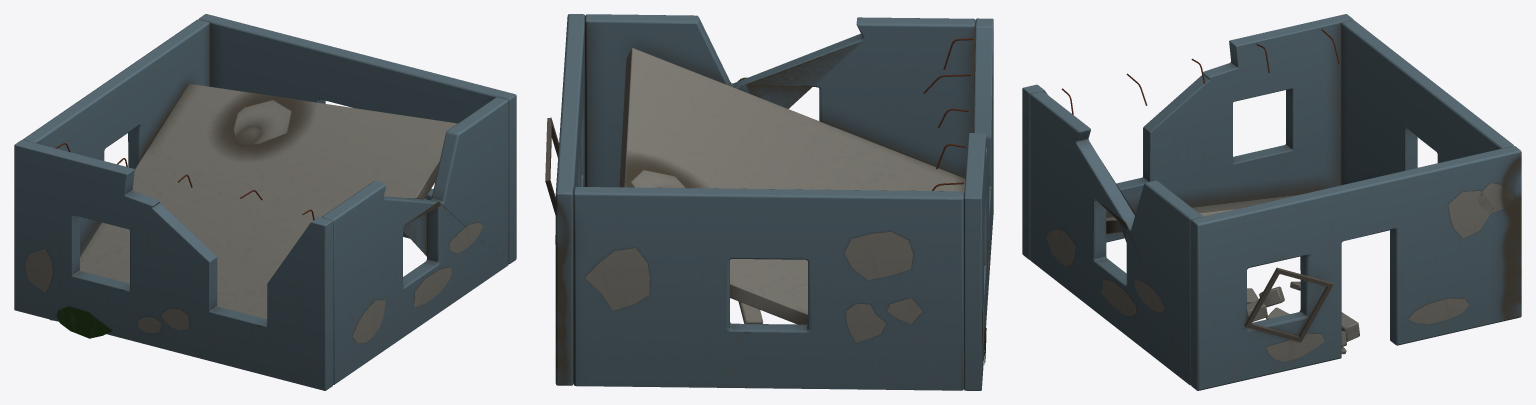
Rendered from casa_h.glb.
3 views of the same model, side by side, from view 1: azimuth 30°, elevation 25°; view 2: azimuth 150°, elevation 25°; view 3: azimuth 270°, elevation 25° (orthographic). The views are drawn at different scales.
Parts seen in each view (by area): view 1: g_casa_h; view 2: g_casa_h; view 3: g_casa_h.
Part boxes in pixels (x1,y1,x2,y2): g_casa_h: (14, 14, 516, 390); g_casa_h: (545, 14, 993, 390); g_casa_h: (1022, 14, 1521, 390).
Size of the model in its own units: 8.11 by 3.18 by 8.11.
1 material, 1 textured.
